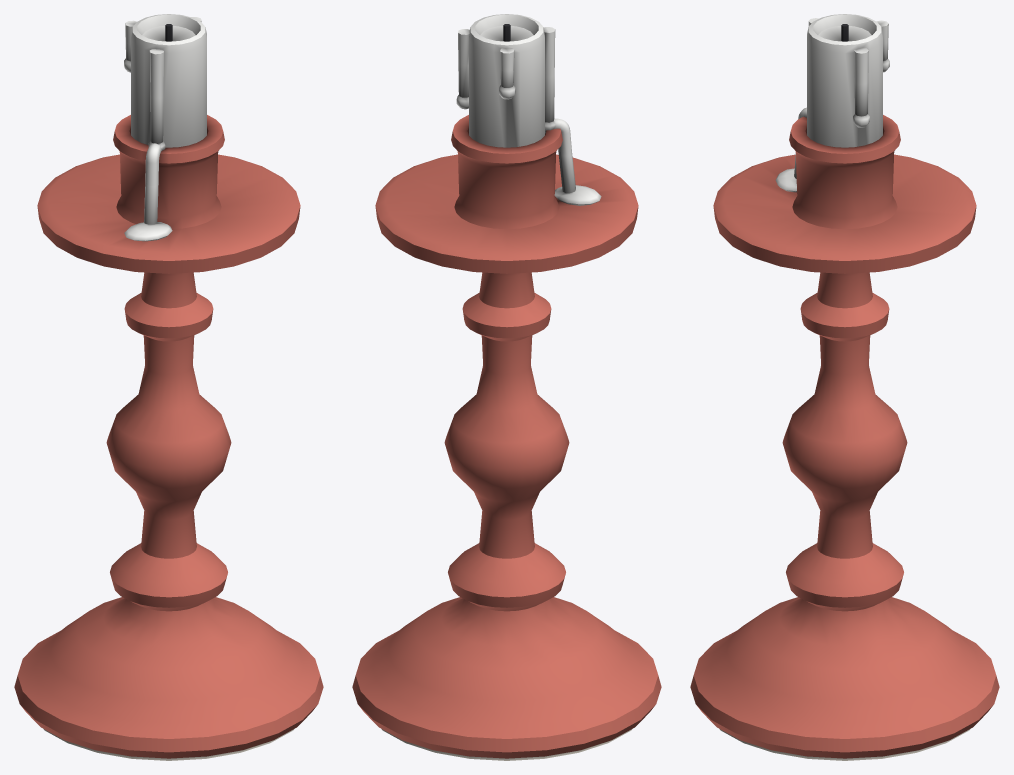
Rendered from junk_candle.glb.
3 renders of one model, left to right at view 1: azimuth 30°, elevation 25°; view 2: azimuth 150°, elevation 25°; view 3: azimuth 270°, elevation 25°, orthographic.
Visible parts, largest first — view 1: PART; view 2: PART; view 3: PART.
Boxes of the visible parts, left/top/right/bottom form: PART: left=14, top=14, right=323, bottom=760; PART: left=352, top=14, right=661, bottom=760; PART: left=690, top=14, right=999, bottom=760.
Bounding box in the file's own units: 0.188 × 0.453 × 0.188.
